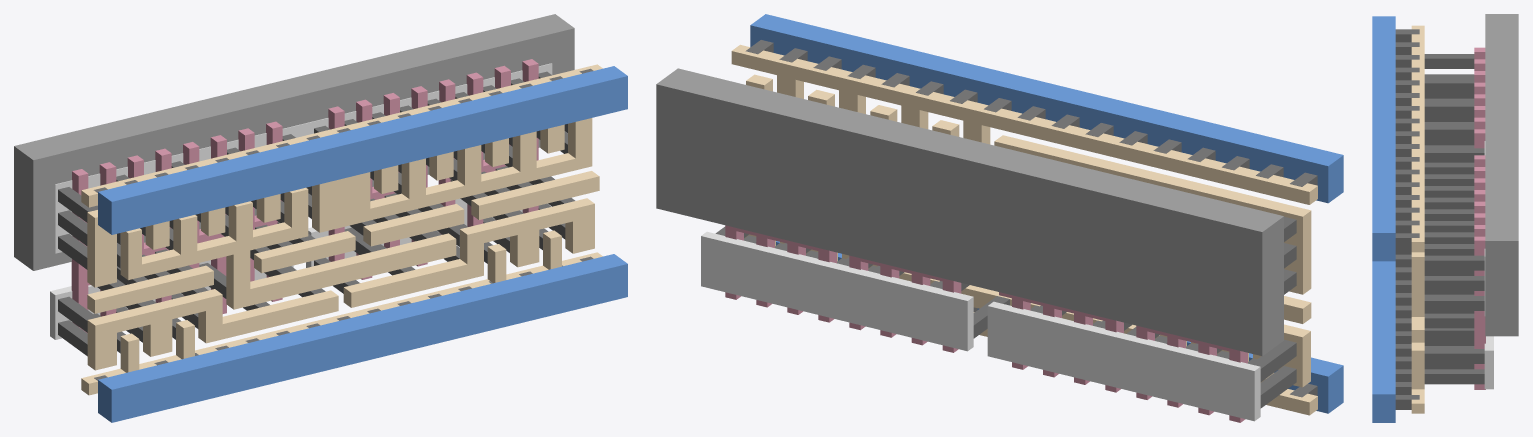
The model's file is sky130_fd_sc_hd__a22oi_4.gds.gltf.
3 renders of one model, left to right at view 1: azimuth 30°, elevation 25°; view 2: azimuth 150°, elevation 25°; view 3: azimuth 270°, elevation 25°, orthographic. The views are drawn at different scales.
Parts seen in each view (by area): view 1: sky130_fd_sc_hd__a22oi_4_li1, sky130_fd_sc_hd__a22oi_4_met1, sky130_fd_sc_hd__a22oi_4_nwell, sky130_fd_sc_hd__a22oi_4_licon, sky130_fd_sc_hd__a22oi_4_poly, sky130_fd_sc_hd__a22oi_4_diff, sky130_fd_sc_hd__a22oi_4_mcon; view 2: sky130_fd_sc_hd__a22oi_4_nwell, sky130_fd_sc_hd__a22oi_4_diff, sky130_fd_sc_hd__a22oi_4_li1, sky130_fd_sc_hd__a22oi_4_met1, sky130_fd_sc_hd__a22oi_4_poly, sky130_fd_sc_hd__a22oi_4_mcon, sky130_fd_sc_hd__a22oi_4_licon; view 3: sky130_fd_sc_hd__a22oi_4_licon, sky130_fd_sc_hd__a22oi_4_nwell, sky130_fd_sc_hd__a22oi_4_met1, sky130_fd_sc_hd__a22oi_4_mcon, sky130_fd_sc_hd__a22oi_4_li1, sky130_fd_sc_hd__a22oi_4_poly, sky130_fd_sc_hd__a22oi_4_diff.
Part boxes in pixels (x1,y1,x2,y2): sky130_fd_sc_hd__a22oi_4_li1: [81, 64, 602, 395]; sky130_fd_sc_hd__a22oi_4_met1: [98, 66, 627, 422]; sky130_fd_sc_hd__a22oi_4_nwell: [14, 14, 574, 270]; sky130_fd_sc_hd__a22oi_4_licon: [58, 71, 575, 356]; sky130_fd_sc_hd__a22oi_4_poly: [71, 59, 538, 333]; sky130_fd_sc_hd__a22oi_4_diff: [50, 63, 552, 339]; sky130_fd_sc_hd__a22oi_4_mcon: [94, 68, 593, 380]; sky130_fd_sc_hd__a22oi_4_nwell: [656, 68, 1283, 356]; sky130_fd_sc_hd__a22oi_4_diff: [701, 231, 1260, 421]; sky130_fd_sc_hd__a22oi_4_li1: [731, 44, 1317, 415]; sky130_fd_sc_hd__a22oi_4_met1: [750, 14, 1343, 413]; sky130_fd_sc_hd__a22oi_4_poly: [725, 225, 1247, 422]; sky130_fd_sc_hd__a22oi_4_mcon: [745, 40, 1317, 397]; sky130_fd_sc_hd__a22oi_4_licon: [715, 216, 1296, 408]; sky130_fd_sc_hd__a22oi_4_licon: [1424, 54, 1484, 384]; sky130_fd_sc_hd__a22oi_4_nwell: [1485, 14, 1518, 336]; sky130_fd_sc_hd__a22oi_4_met1: [1372, 16, 1395, 422]; sky130_fd_sc_hd__a22oi_4_mcon: [1395, 29, 1419, 409]; sky130_fd_sc_hd__a22oi_4_li1: [1411, 25, 1424, 413]; sky130_fd_sc_hd__a22oi_4_poly: [1474, 47, 1485, 389]; sky130_fd_sc_hd__a22oi_4_diff: [1484, 141, 1493, 389].
Bounding box in the file's own units: 8.2 × 3.2 × 2.24.
